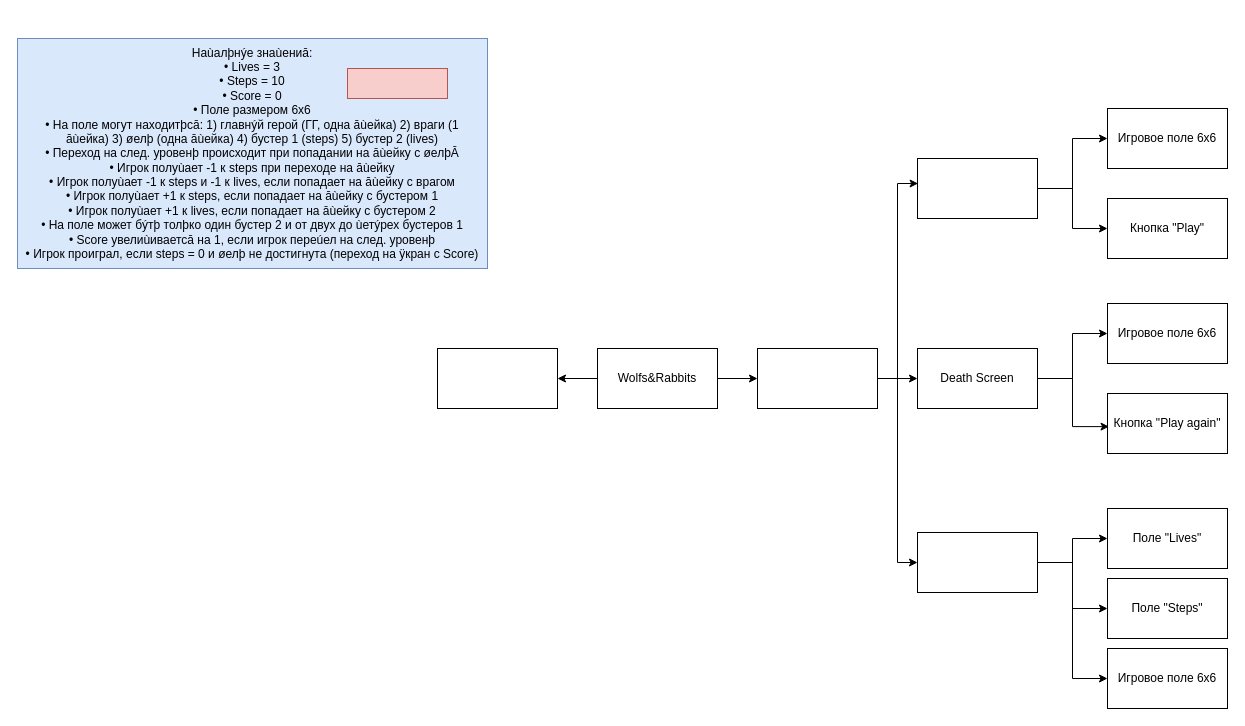
This 1245x726 diagram has some shape labels left out. The shapes that lost their labels are listed below. From the top down, each one's centre as x and y in pixels, then its label:
the point at 397,83: Чек-лист на Wolfs&Rabbits
the point at 977,188: Start screen
the point at 497,378: Логика
the point at 817,378: Интерфейс
the point at 977,562: Playmode screen
